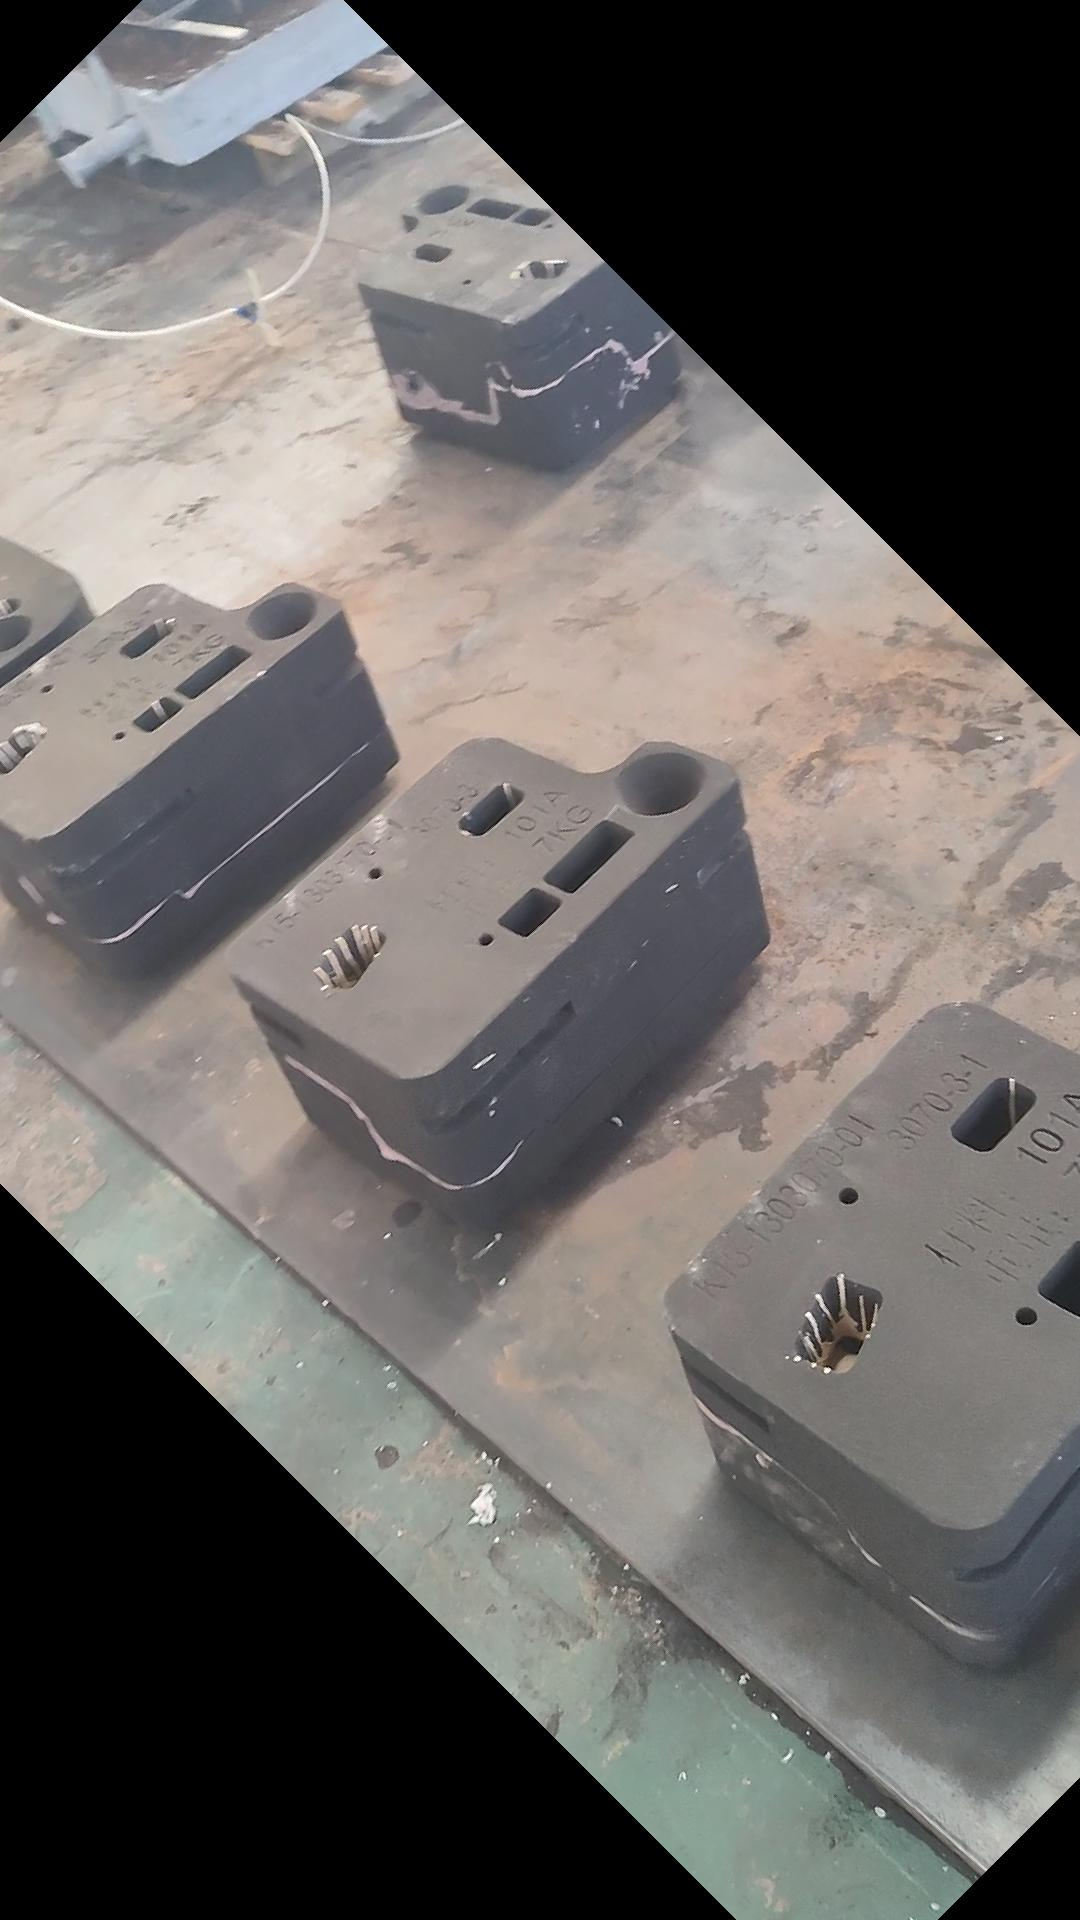pouring hole: (613, 750, 705, 815), (247, 591, 319, 640), (415, 185, 469, 214), (1, 615, 33, 651)
